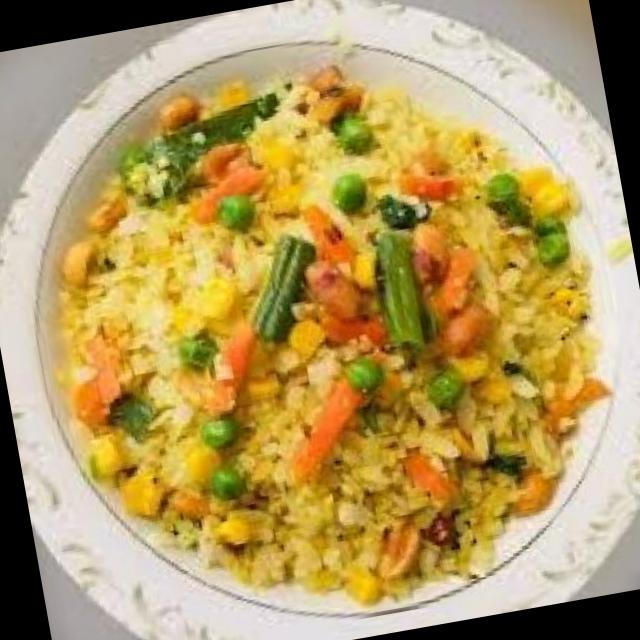poha: (12, 25, 640, 640)
